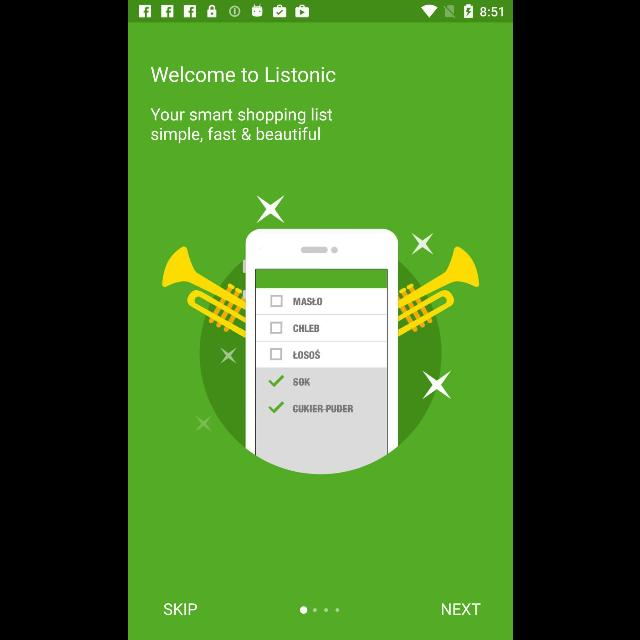image: (162, 195, 478, 475)
pageindicator: (298, 606, 339, 614)
text: (150, 108, 332, 144), (150, 67, 336, 83), (440, 602, 480, 616), (163, 602, 197, 616)
uppertaskbar: (128, 1, 512, 23)
